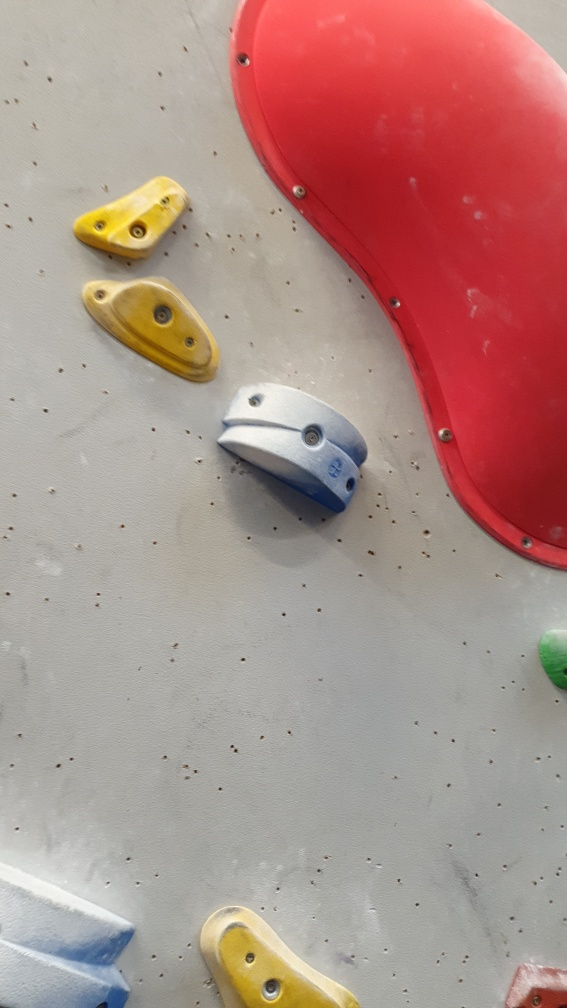Crimp: (103, 182, 190, 264)
Pinch: (215, 379, 373, 516), (1, 857, 137, 1007)
